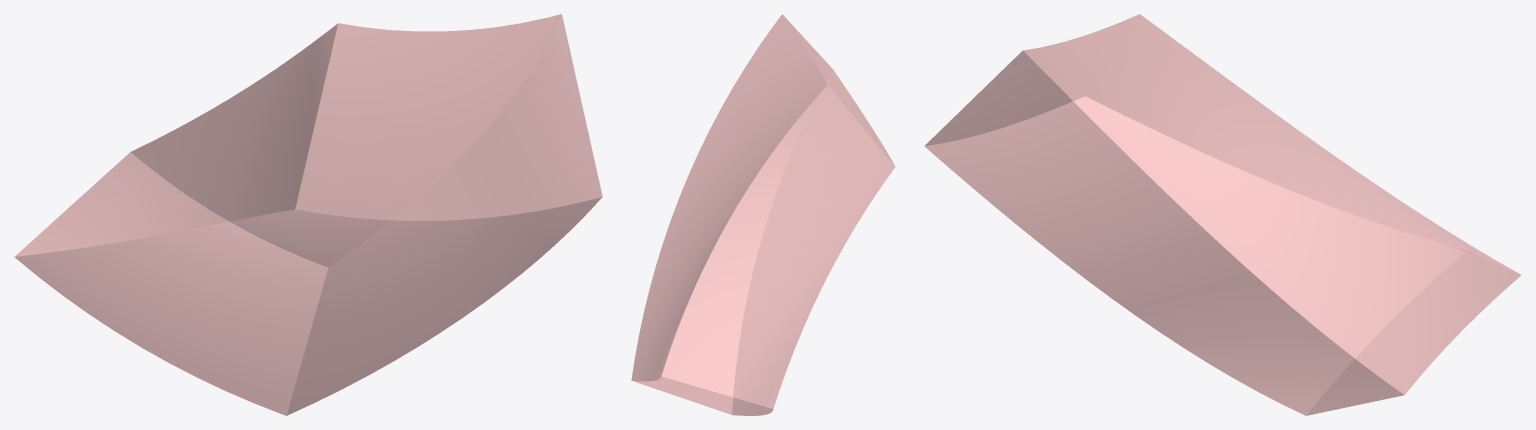
3 views of the same model, side by side, from view 1: azimuth 30°, elevation 25°; view 2: azimuth 150°, elevation 25°; view 3: azimuth 270°, elevation 25° (orthographic). The views are drawn at different scales.
Parts seen in each view (by area): view 1: Bloc = Etape 8; view 2: Bloc = Etape 8; view 3: Bloc = Etape 8.
Part boxes in pixels (x1,y1,x2,y2): Bloc = Etape 8: [14, 14, 602, 415]; Bloc = Etape 8: [631, 14, 895, 415]; Bloc = Etape 8: [924, 14, 1521, 415].
Size of the model in its own units: 0.2794 by 0.4363 by 0.5869.
